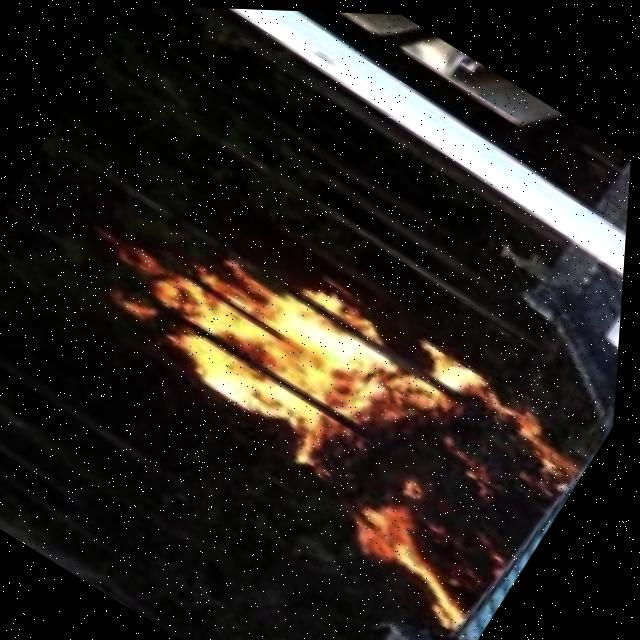Fire: (39, 169, 616, 629)
